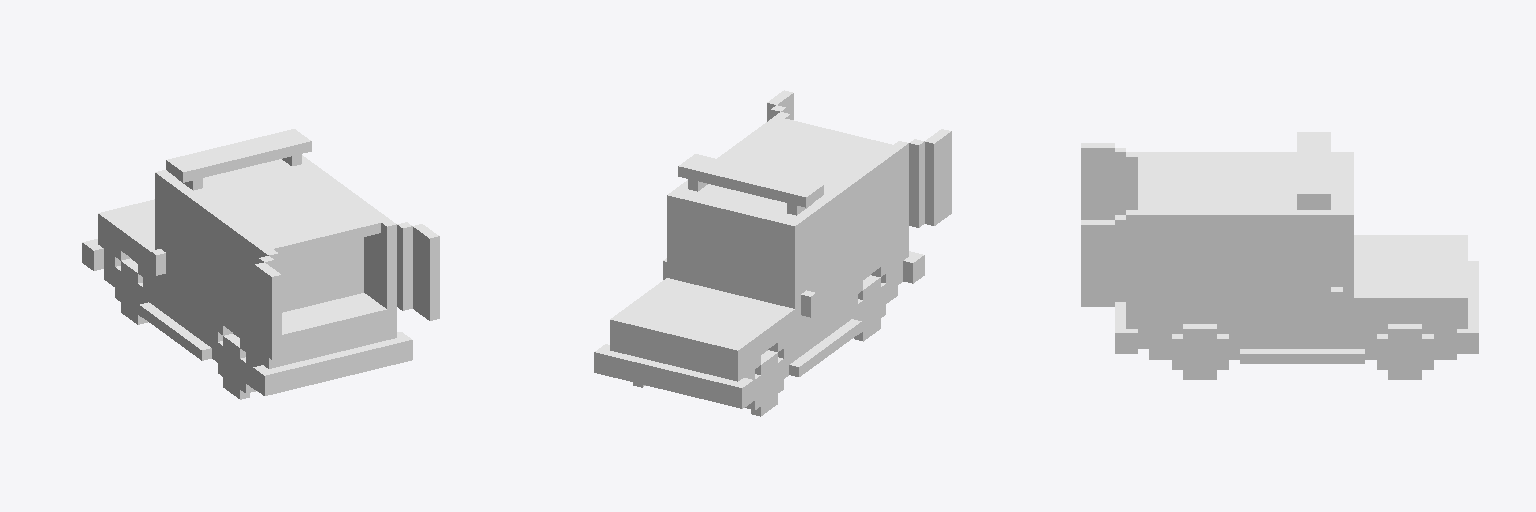
The model's file is car-1.obj.
3 renders of one model, left to right at view 1: azimuth 30°, elevation 25°; view 2: azimuth 150°, elevation 25°; view 3: azimuth 270°, elevation 25°, orthographic.
Parts seen in each view (by area): view 1: object 1; view 2: object 1; view 3: object 1.
Part boxes in pixels (left/top/right/bottom): object 1: left=82, top=129, right=439, bottom=399; object 1: left=594, top=90, right=951, bottom=416; object 1: left=1081, top=132, right=1478, bottom=379.
Size of the model in its own units: 1.7 by 1.8 by 3.5.